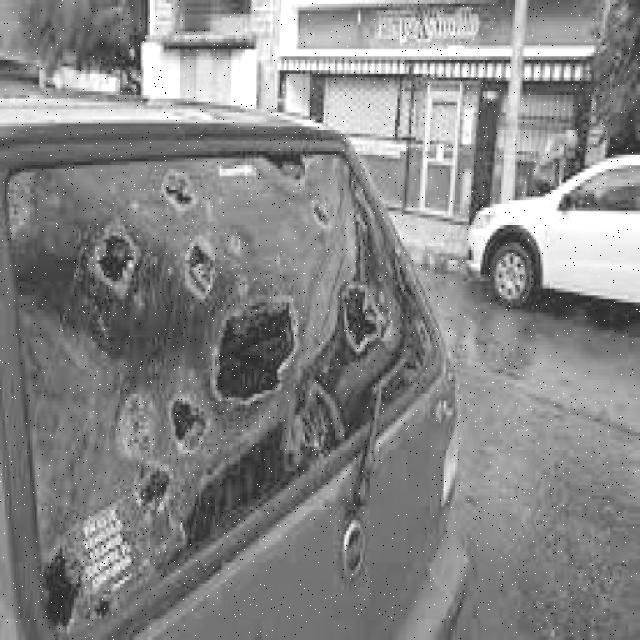car damage: (6, 142, 448, 628)
